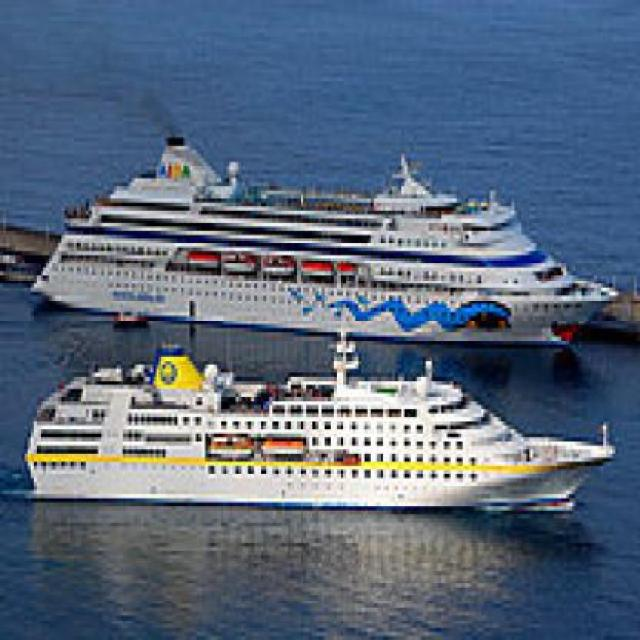cruise: (23, 114, 629, 354), (13, 313, 629, 532)
